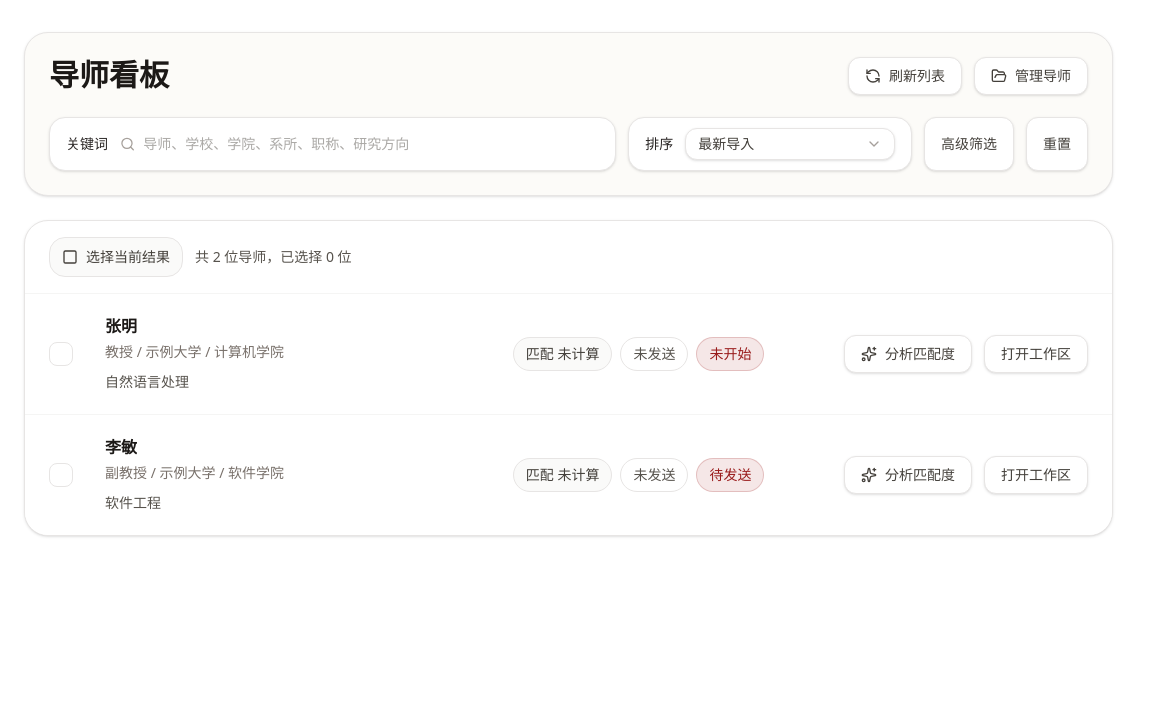
Scenario: selection controls › keeps the home select-current-results action with the list selection area
This screenshot has width=1152, height=720.
Expected: the button "清空选择" is not shown
Click the button "选择当前结果".
click(116, 257)  # box [49,237,183,277]
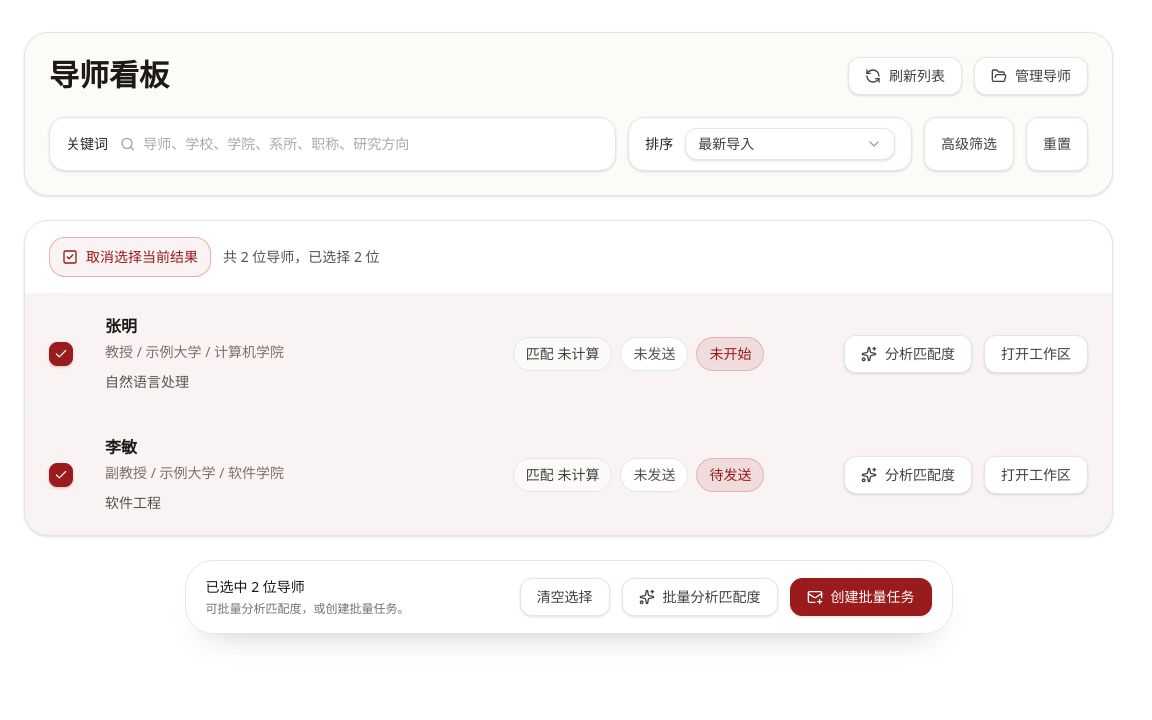
Now the text "已选中 2 位导师" is shown, box [206,577,305,596]
Now the button "清空选择" is shown, box [520,578,610,616]
Click the button "取消选择当前结果".
click(130, 257)  # box [49,237,211,277]
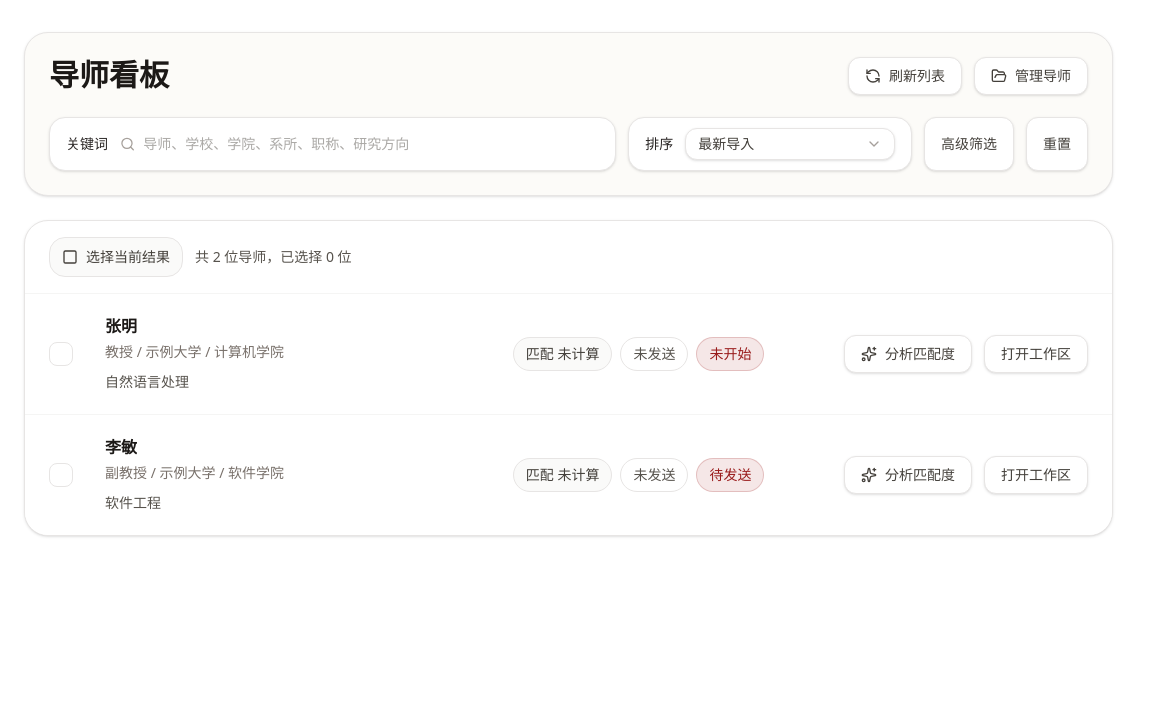
Now the text "已选中 2 位导师" is gone
Now the button "清空选择" is gone
